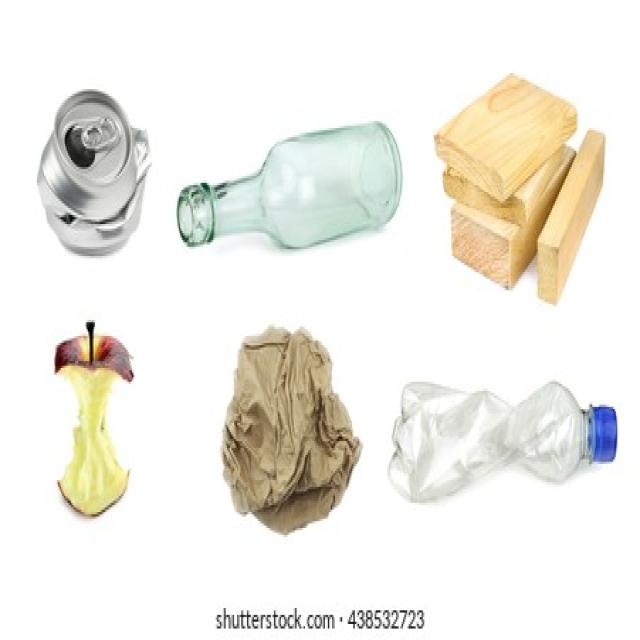glass: (166, 130, 406, 272)
metal: (27, 96, 146, 256)
paper: (220, 324, 349, 556)
plastic: (389, 368, 633, 510)
